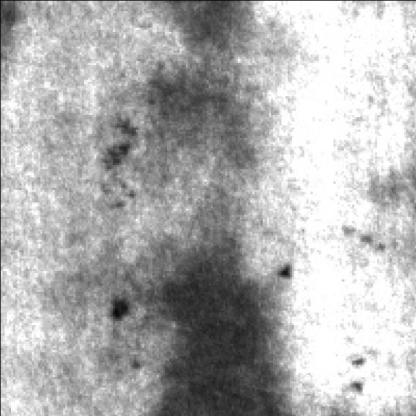patches: (149, 258, 276, 416), (138, 69, 264, 166), (162, 6, 256, 65)
